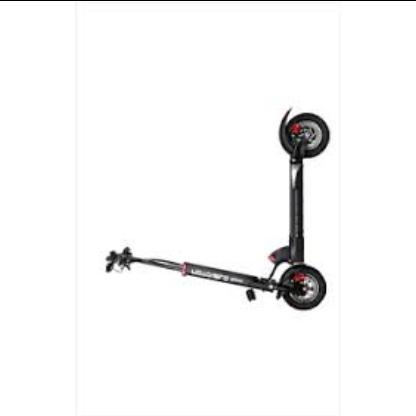bike: (105, 107, 330, 311)
